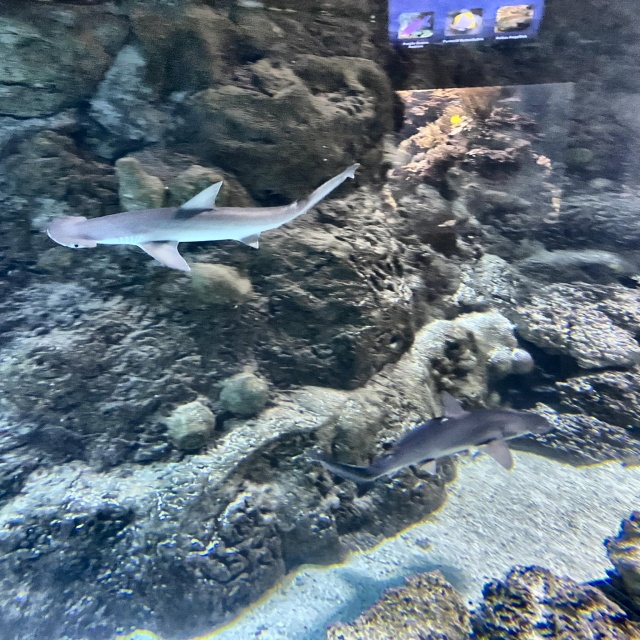shark: (45, 163, 359, 272), (304, 389, 552, 486)
